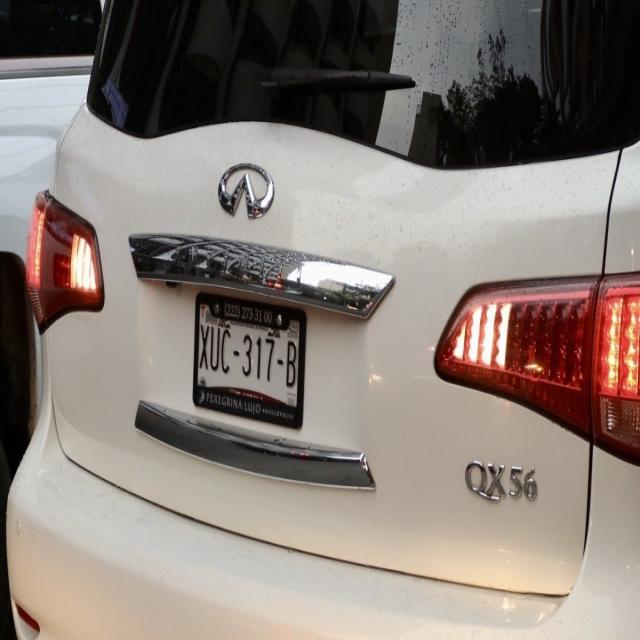placa: (193, 318, 302, 394)
